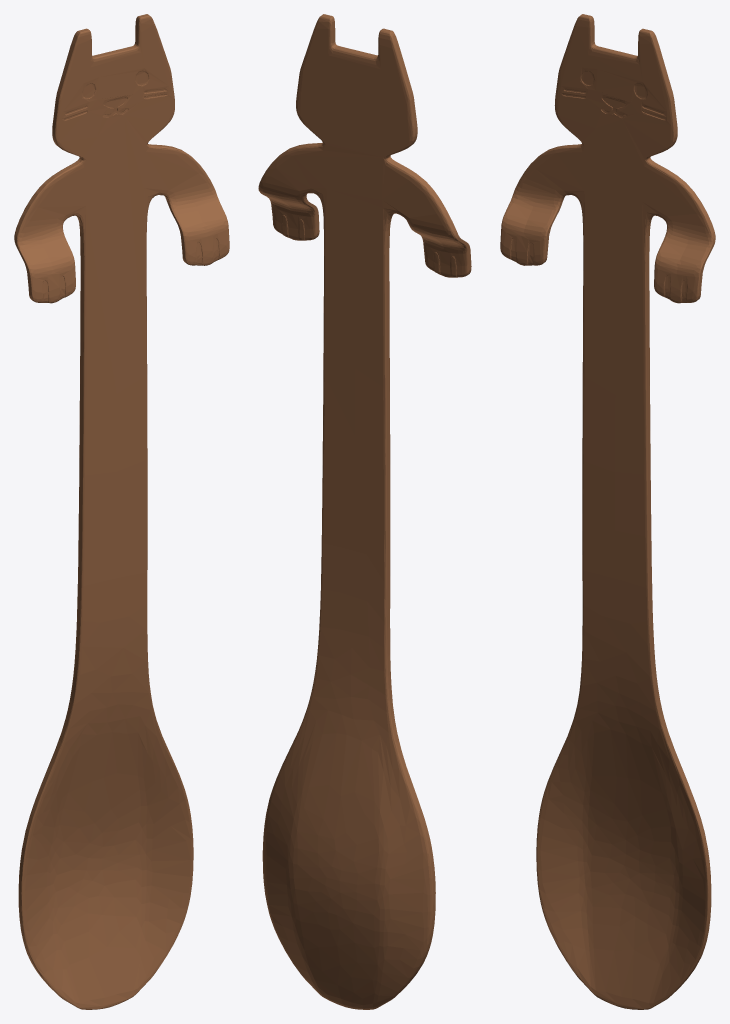
File: Spoon3.fbx
3 views of the same model, side by side, from view 1: azimuth 30°, elevation 25°; view 2: azimuth 150°, elevation 25°; view 3: azimuth 330°, elevation 25° (orthographic).
Parts seen in each view (by area): view 1: Spoon3; view 2: Spoon3; view 3: Spoon3.
Part boxes in pixels (x1,y1,x2,y2): Spoon3: (14,14,229,1009); Spoon3: (258,14,471,1009); Spoon3: (500,14,715,1009).
Bounding box in the file's own units: 54.88 × 259 × 19.07.
